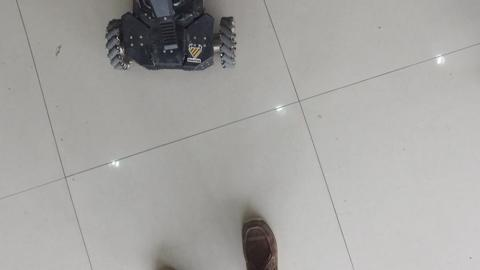chariot: (104, 1, 245, 79)
